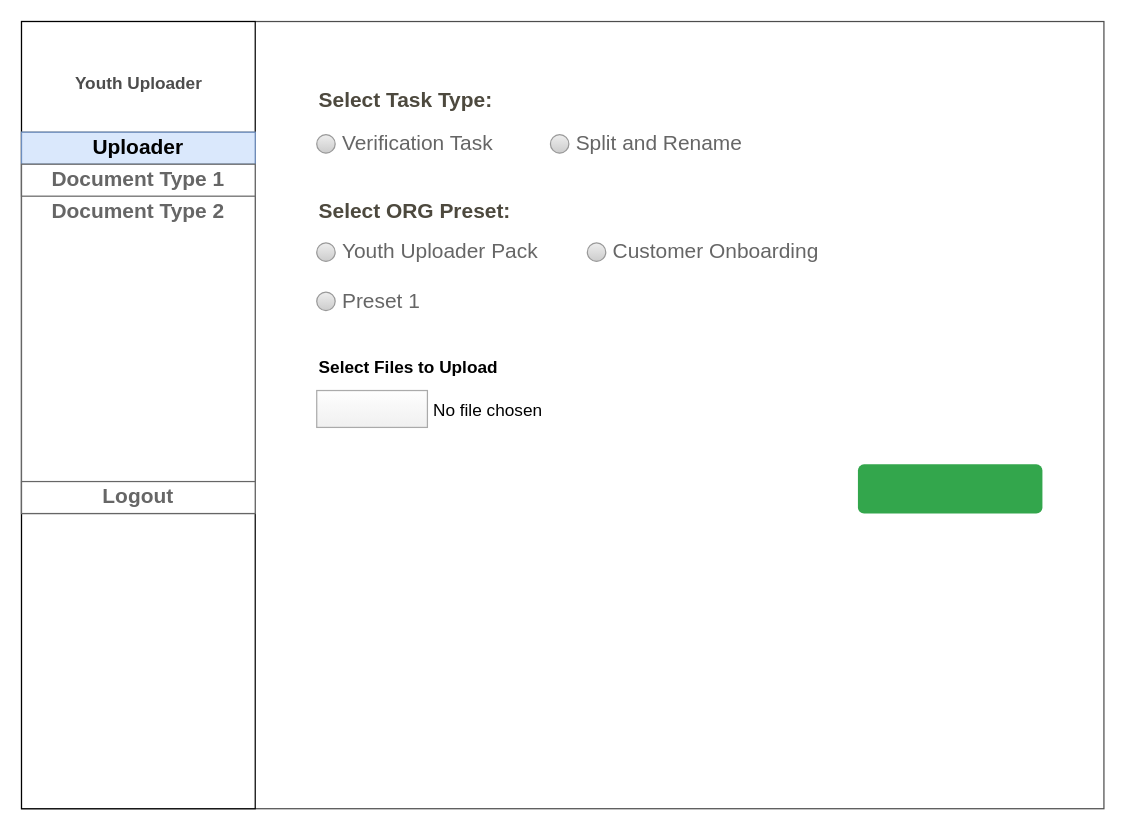
Image size: 1125x830. Some labels were removed from this diagram. The centre of each missing label's shape, as x and y in pixels:
Choose File: the point at 371,408
Upload Process: the point at 949,488
